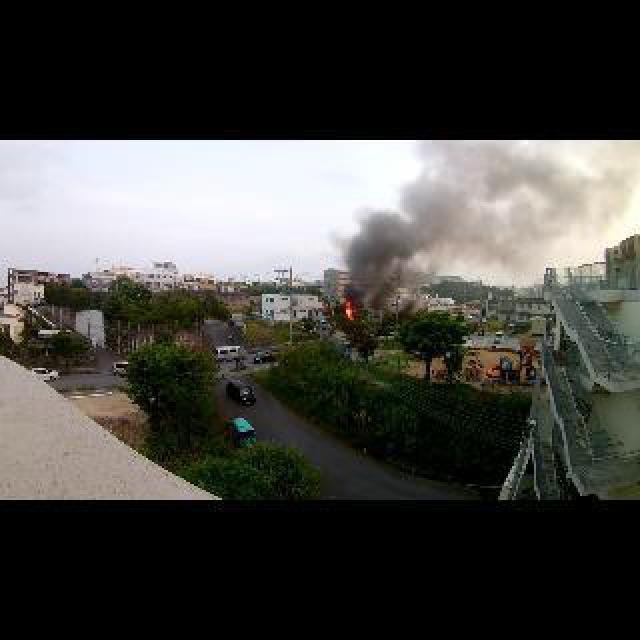fire: (344, 302, 358, 320)
smoke: (392, 142, 612, 276), (332, 206, 430, 292)
